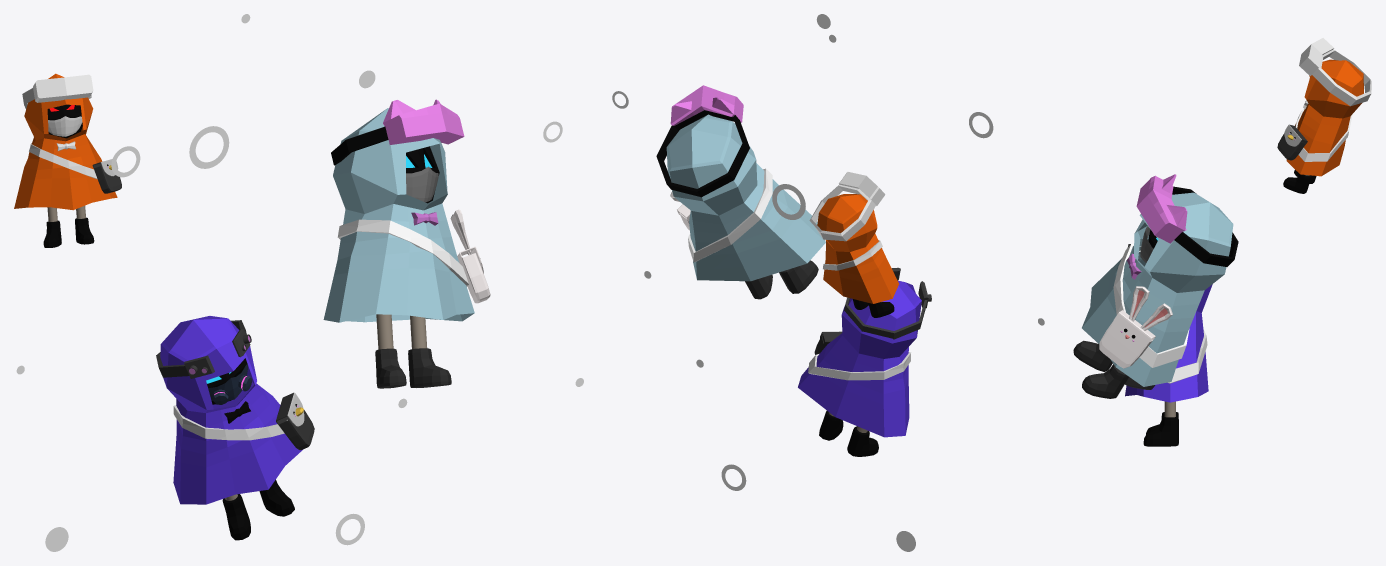
Rendered from Human_right_v2.glb.
3 renders of one model, left to right at view 1: azimuth 30°, elevation 25°; view 2: azimuth 150°, elevation 25°; view 3: azimuth 270°, elevation 25°, orthographic. The views are drawn at different scales.
Visible parts, largest first — view 1: Body.018, Body.020, Body.002, VR03.003, Body.019, Leg L.009, Leg R.009, VR01, 02RabbitBag.002, 03PenguinBag.003, VR04, Body.021 (+6 smaller); view 2: Body.018, Body.020, Body.002, VR03.003, VR01, Body.019, VR04, Body.021, Leg R.009, Leg R.010; view 3: Body.018, Body.002, VR03.003, 02RabbitBag.002, Body.020, VR01, Body.019, Leg L.009, Leg L.010, Leg R.009, 03PenguinBag, Body.021 (+2 smaller).
Part boxes in pixels (box(x1,y1,x2,y2)): Body.018: box(323, 108, 474, 322); Body.020: box(160, 316, 303, 504); Body.002: box(14, 73, 117, 210); VR03.003: box(331, 99, 464, 165); Body.019: box(337, 219, 468, 286); Leg L.009: box(408, 315, 451, 387); Leg R.009: box(375, 314, 406, 388); VR01: box(22, 74, 93, 109); 02RabbitBag.002: box(450, 209, 490, 303); 03PenguinBag.003: box(276, 392, 314, 450); VR04: box(156, 320, 251, 378); Body.021: box(173, 405, 287, 440); Body.018: box(666, 114, 825, 281); Body.020: box(798, 280, 921, 437); Body.002: box(817, 194, 898, 303); VR03.003: box(656, 85, 749, 197); VR01: box(809, 172, 885, 241); Body.019: box(688, 168, 772, 262); VR04: box(844, 267, 931, 339); Body.021: box(808, 352, 910, 380); Leg R.009: box(779, 260, 818, 293); Leg R.010: box(847, 426, 878, 456); Body.018: box(1082, 192, 1233, 386); Body.002: box(1286, 59, 1363, 176); VR03.003: box(1136, 174, 1238, 266); 02RabbitBag.002: box(1099, 286, 1172, 368); Body.020: box(1125, 284, 1212, 402); VR01: box(1299, 38, 1371, 106); Body.019: box(1113, 244, 1189, 367); Leg L.009: box(1082, 364, 1128, 398); Leg L.010: box(1143, 401, 1178, 446); Leg R.009: box(1073, 340, 1112, 371); 03PenguinBag: box(1277, 124, 1307, 160); Body.021: box(1168, 329, 1207, 383).
Size of the model in its own units: 14.51 by 14.73 by 8.14.
